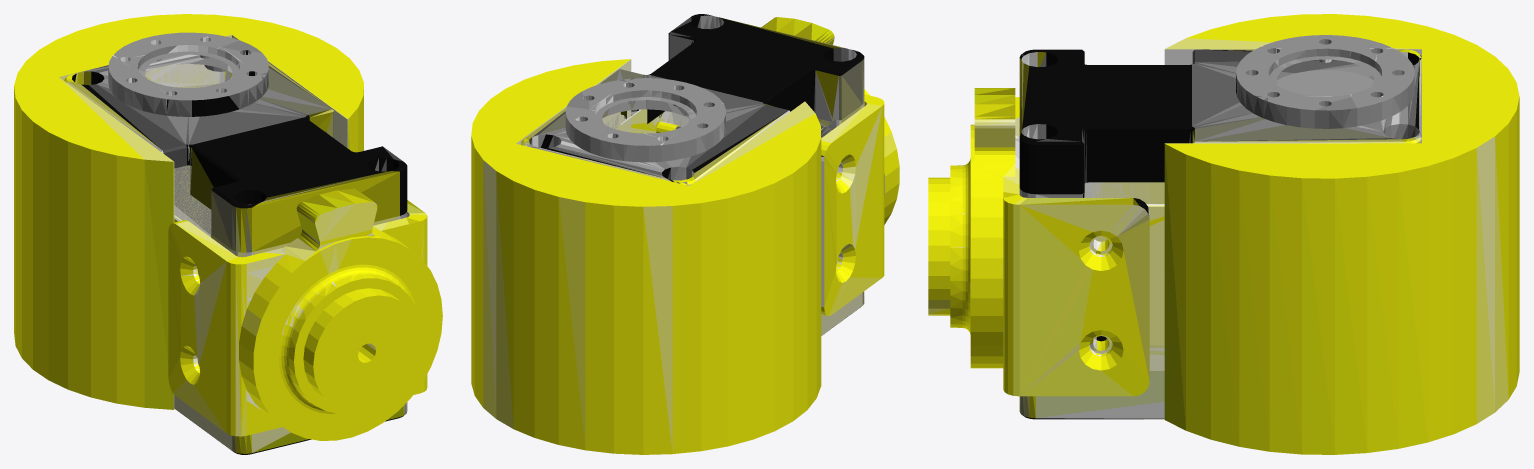
Rendered from HansCuteLink3.dae.
3 renders of one model, left to right at view 1: azimuth 30°, elevation 25°; view 2: azimuth 150°, elevation 25°; view 3: azimuth 270°, elevation 25°, orthographic. The views are drawn at different scales.
Parts seen in each view (by area): view 1: HansCuteLink3; view 2: HansCuteLink3; view 3: HansCuteLink3.
Part boxes in pixels (box(x1,y1,x2,y2)): HansCuteLink3: box(14, 14, 442, 454); HansCuteLink3: box(471, 14, 899, 454); HansCuteLink3: box(928, 14, 1519, 454).
Size of the model in its own units: 0.0479 by 0.0727 by 0.0458.
